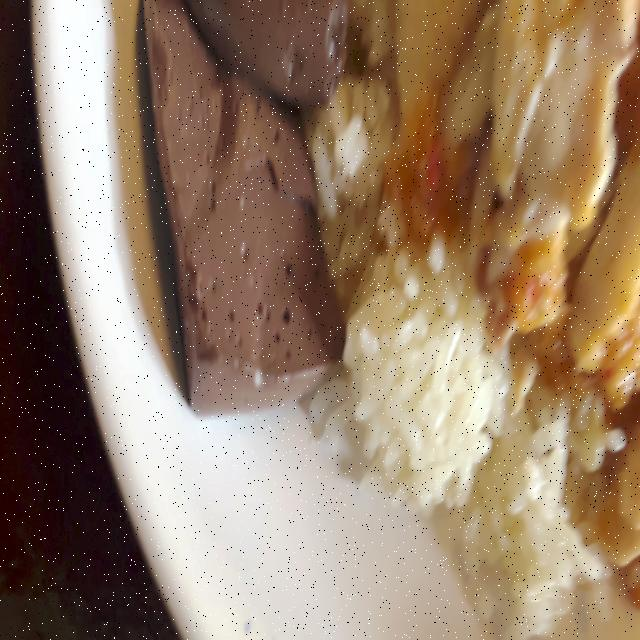boiled_chicken: (395, 0, 639, 446)
boiled_chicken_blood_jelly: (142, 0, 332, 393)
chicken_rice: (141, 0, 640, 602)
